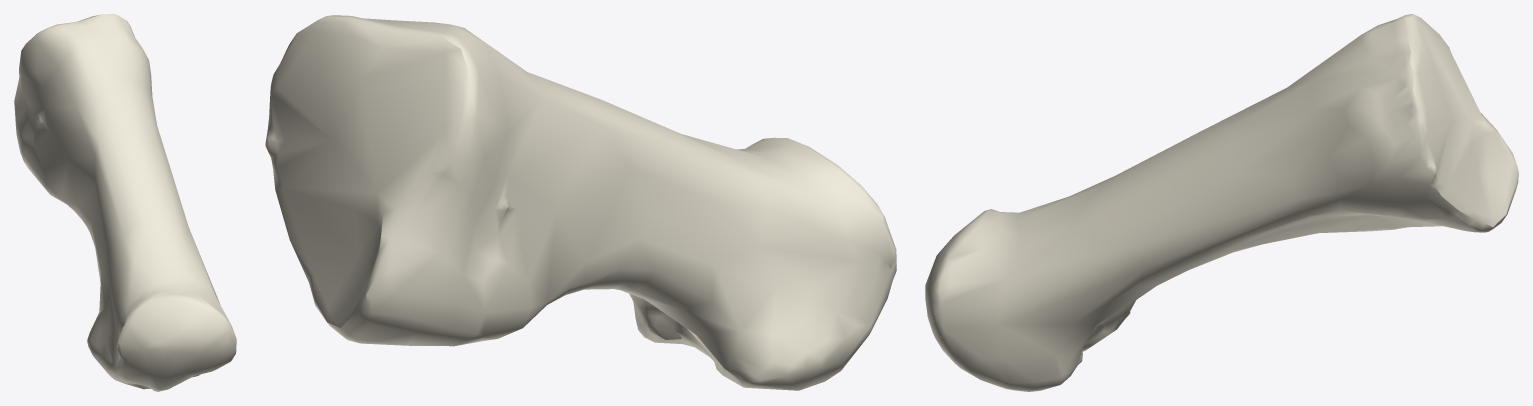
File: fma24507_fj6445.glb
3 renders of one model, left to right at view 1: azimuth 30°, elevation 25°; view 2: azimuth 150°, elevation 25°; view 3: azimuth 270°, elevation 25°, orthographic. The views are drawn at different scales.
Parts seen in each view (by area): view 1: FMA24507_FJ6445; view 2: FMA24507_FJ6445; view 3: FMA24507_FJ6445.
Part boxes in pixels (bbox=[...]): FMA24507_FJ6445: bbox=[14, 14, 236, 391]; FMA24507_FJ6445: bbox=[265, 15, 896, 390]; FMA24507_FJ6445: bbox=[925, 14, 1518, 391].
Size of the model in its own units: 0.0296 by 0.0432 by 0.0622.
